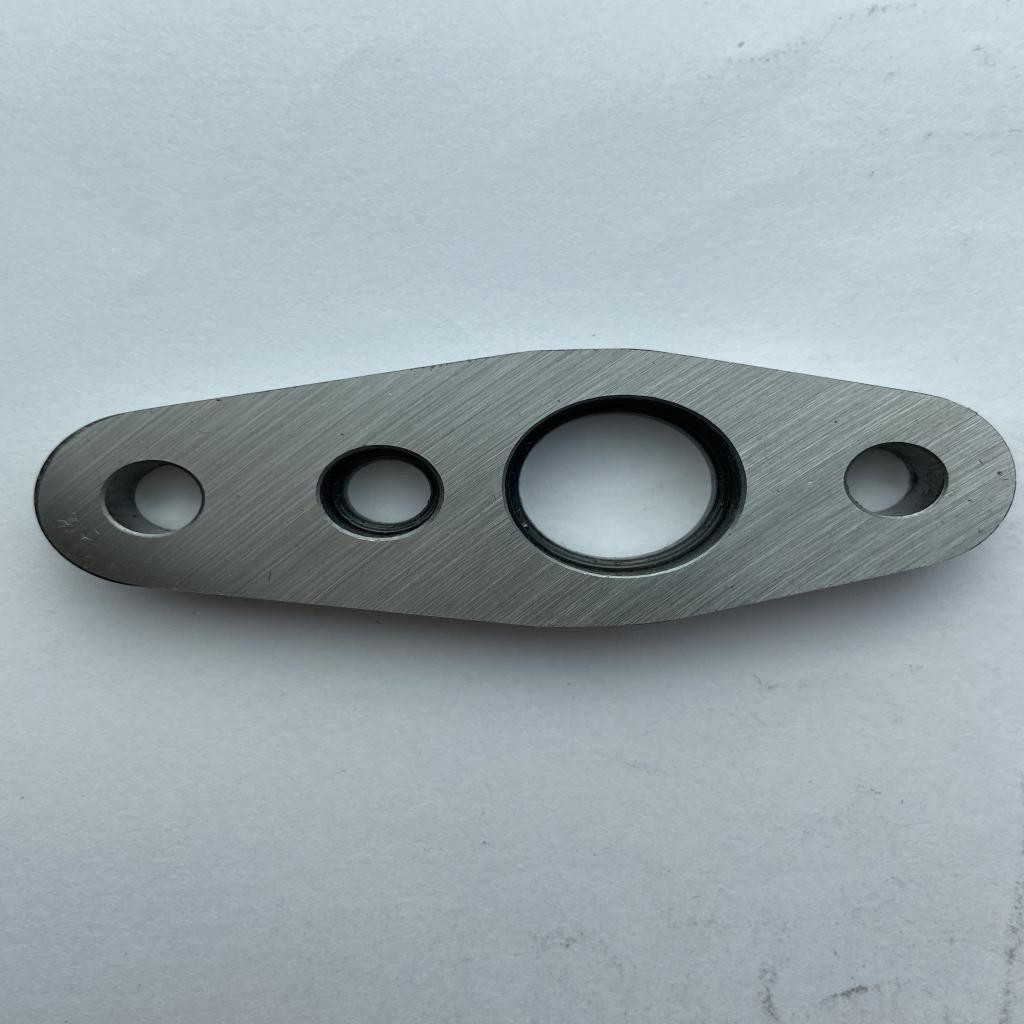chap: (57, 513, 102, 544), (990, 466, 1013, 484), (805, 479, 817, 485)
